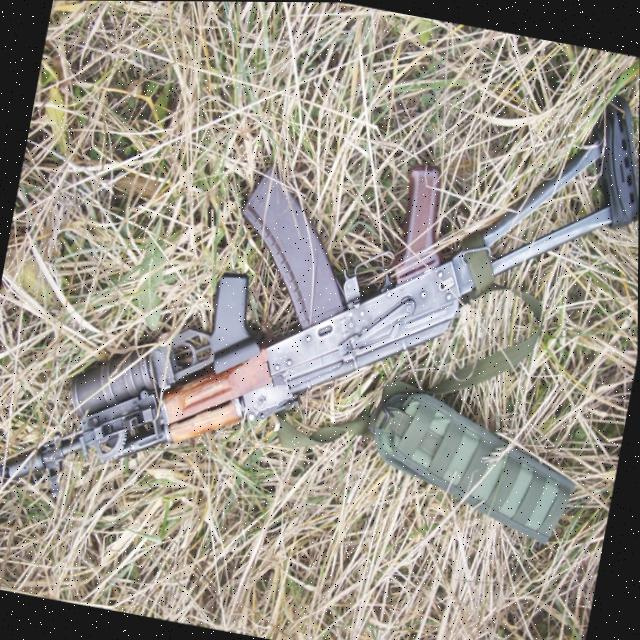firearm: (0, 0, 640, 592)
